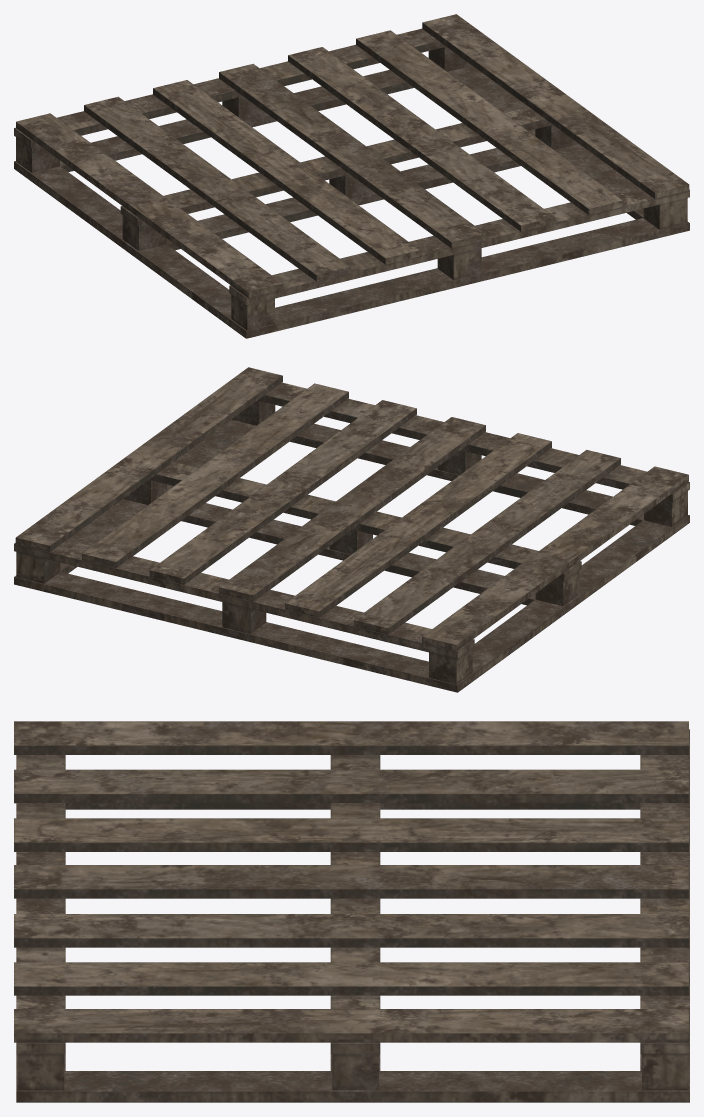
3 views of the same model, one above another, from view 1: azimuth 30°, elevation 25°; view 2: azimuth 150°, elevation 25°; view 3: azimuth 270°, elevation 25° (orthographic). The views are drawn at different scales.
Visible parts, largest first — view 1: Wood_Pallet; view 2: Wood_Pallet; view 3: Wood_Pallet.
Boxes of the visible parts, left/top/right/bottom form: Wood_Pallet: left=14, top=14, right=689, bottom=338; Wood_Pallet: left=14, top=367, right=689, bottom=692; Wood_Pallet: left=14, top=721, right=689, bottom=1102.
Bounding box in the file's own units: 1.64 × 0.1659 × 1.49.
1 material, 1 textured.
